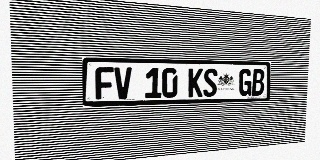0: (162, 68, 178, 98)
1: (145, 68, 161, 98)
B: (252, 69, 265, 96)
F: (95, 67, 114, 100)
G: (239, 69, 252, 96)
K: (188, 68, 203, 97)
S: (203, 68, 218, 97)
V: (114, 67, 132, 99)
